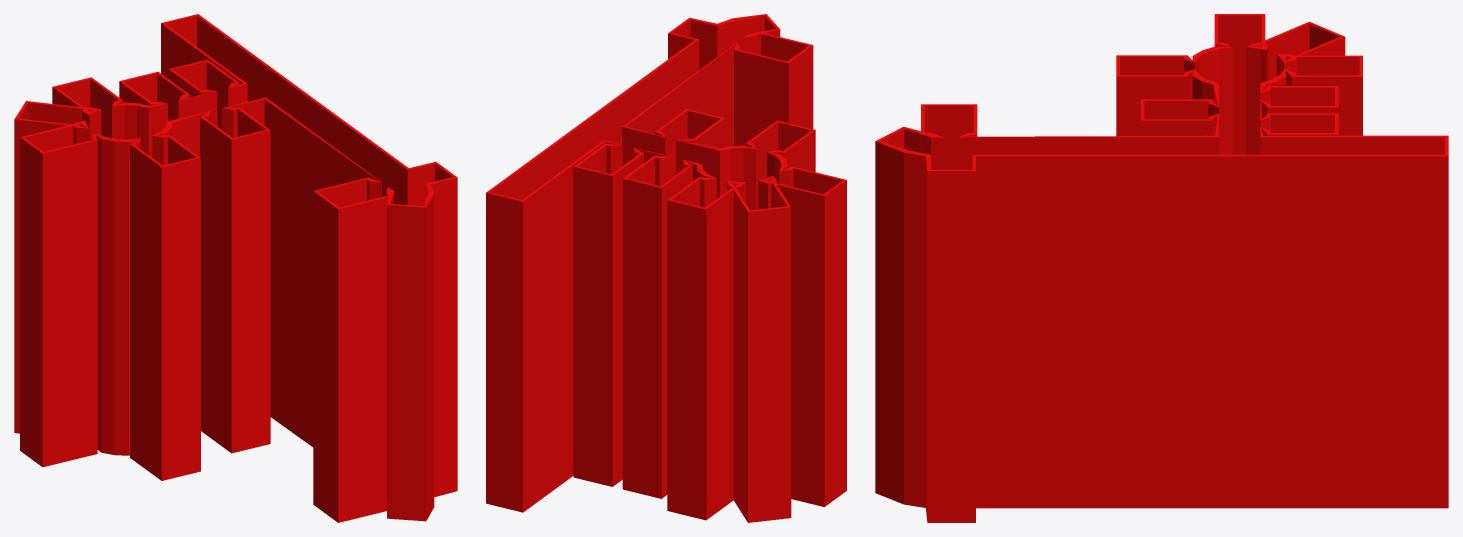
Rendered from Invisible Walls.fbx.
The picture shows the model from 3 angles, left to right: view 1: azimuth 30°, elevation 25°; view 2: azimuth 150°, elevation 25°; view 3: azimuth 270°, elevation 25°; orthographic projection. The views are drawn at different scales.
Parts seen in each view (by area): view 1: Boarder; view 2: Boarder; view 3: Boarder.
Boxes of the visible parts, bbox=[...] form: Boarder: bbox=[14, 14, 457, 522]; Boarder: bbox=[486, 14, 846, 522]; Boarder: bbox=[875, 14, 1448, 522].
Size of the model in its own units: 1440 by 1504 by 2221.
